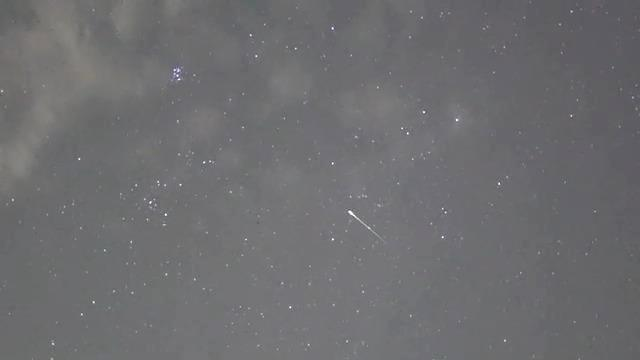meteorite: (325, 203, 402, 244)
